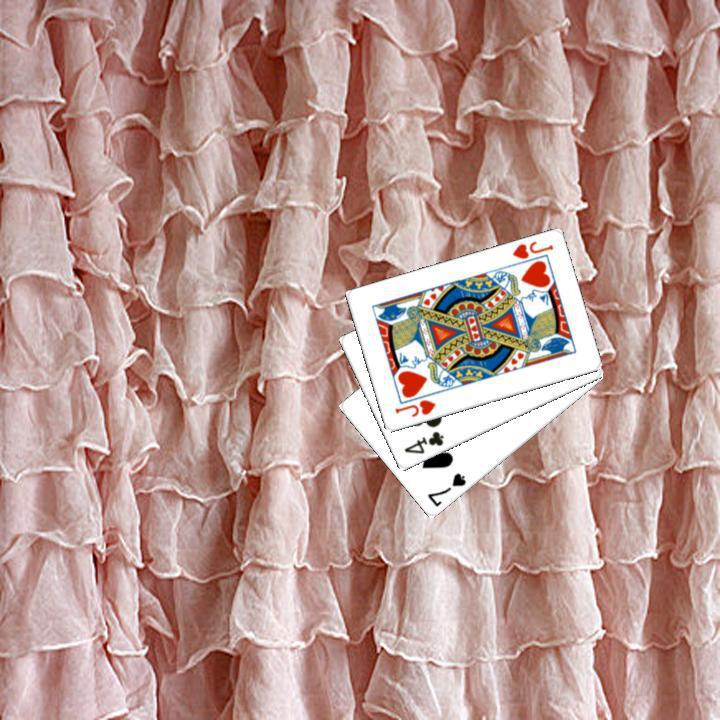4: (399, 427, 446, 456)
7: (423, 469, 468, 509)
J: (508, 237, 555, 261), (390, 396, 437, 419)
